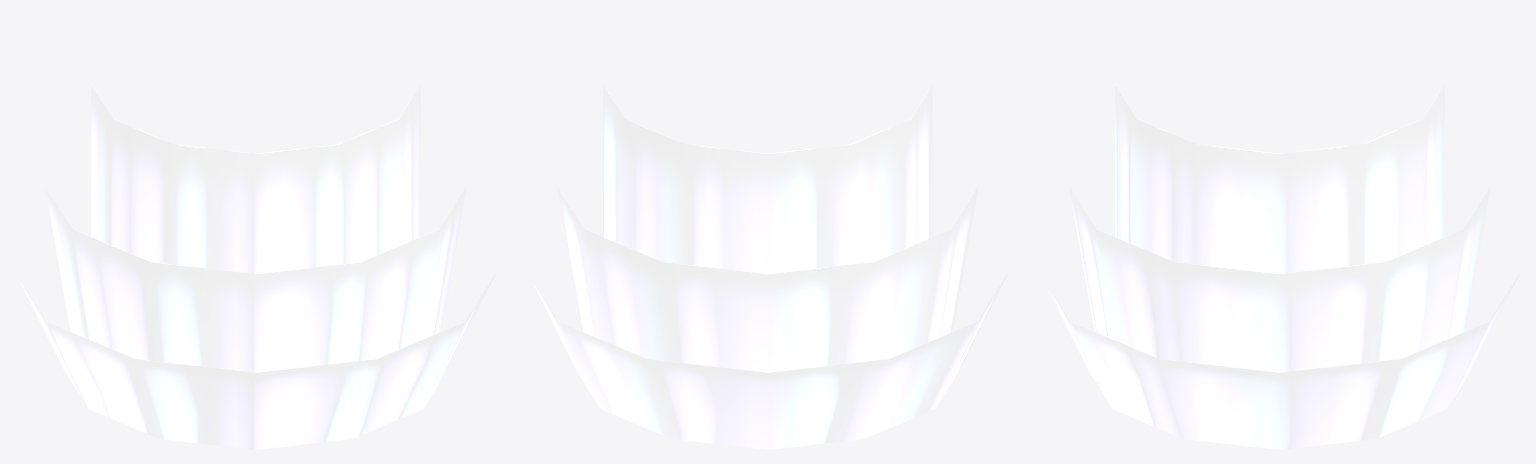
File: sfx_common_condition_violet.glb
3 renders of one model, left to right at view 1: azimuth 30°, elevation 25°; view 2: azimuth 150°, elevation 25°; view 3: azimuth 270°, elevation 25°, orthographic.
Visible parts, largest first — view 1: sfx_common_condition_violet_obj0, sfx_common_condition_violet_obj1, sfx_common_condition_violet_obj2; view 2: sfx_common_condition_violet_obj0, sfx_common_condition_violet_obj1, sfx_common_condition_violet_obj2; view 3: sfx_common_condition_violet_obj0, sfx_common_condition_violet_obj1, sfx_common_condition_violet_obj2.
Boxes of the visible parts, x1=… form: sfx_common_condition_violet_obj0: x1=91, y1=84, x2=420, y2=273; sfx_common_condition_violet_obj1: x1=45, y1=185, x2=466, y2=372; sfx_common_condition_violet_obj2: x1=16, y1=273, x2=495, y2=449; sfx_common_condition_violet_obj0: x1=603, y1=84, x2=932, y2=273; sfx_common_condition_violet_obj1: x1=557, y1=185, x2=978, y2=372; sfx_common_condition_violet_obj2: x1=528, y1=273, x2=1007, y2=449; sfx_common_condition_violet_obj0: x1=1115, y1=84, x2=1444, y2=273; sfx_common_condition_violet_obj1: x1=1069, y1=185, x2=1490, y2=372; sfx_common_condition_violet_obj2: x1=1040, y1=273, x2=1519, y2=449.
Size of the model in its own units: 0.7606 by 0.4948 by 0.7606.
1 material, 1 textured.
